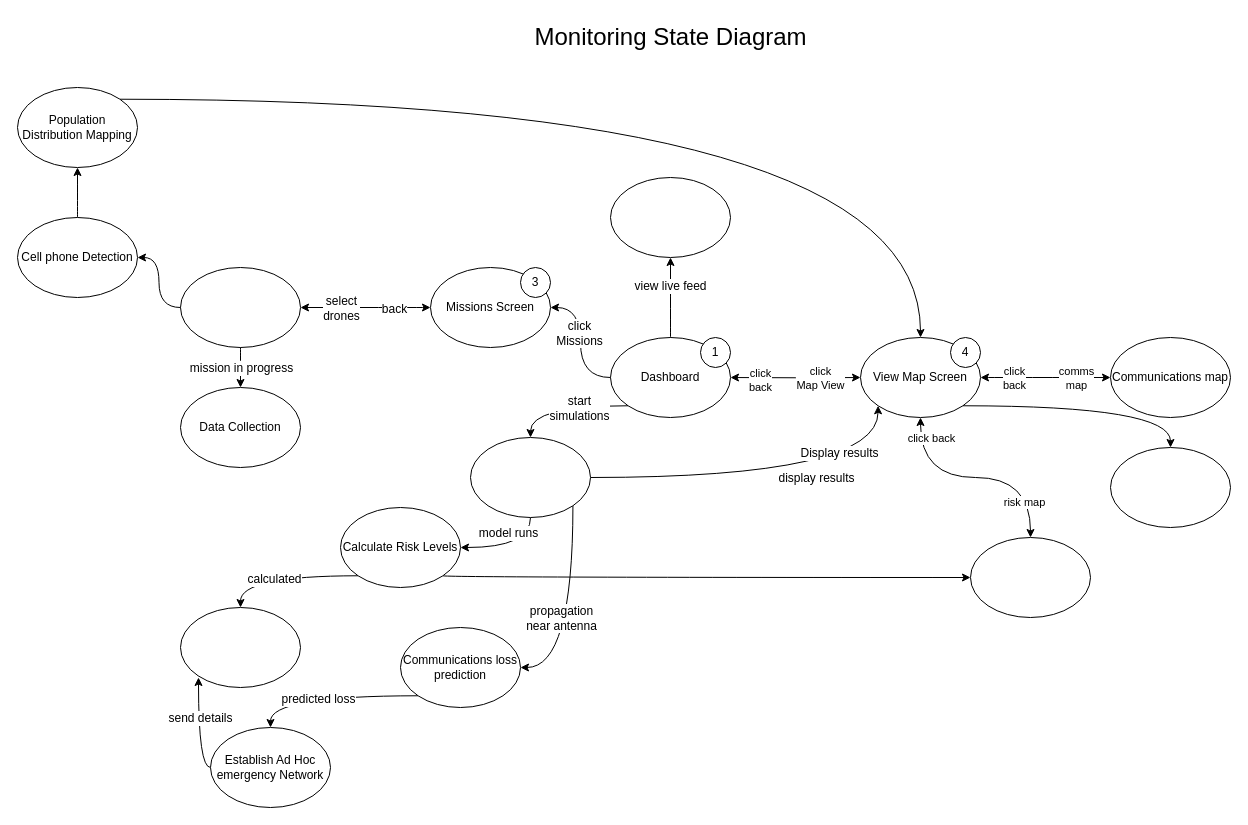
Some shapes in this 1248 by 825 pixel diagram are drawn without their labels. Here are the shapes that lost their labels. From the top down, the centre of each, then its label:
the point at 670,217: Live feed Screen
the point at 240,307: Start Mission
the point at 530,477: Propagation Prediction
the point at 1170,487: Blocked Areas Map
the point at 1030,577: Risk (heat) map
the point at 240,647: Send Alert
